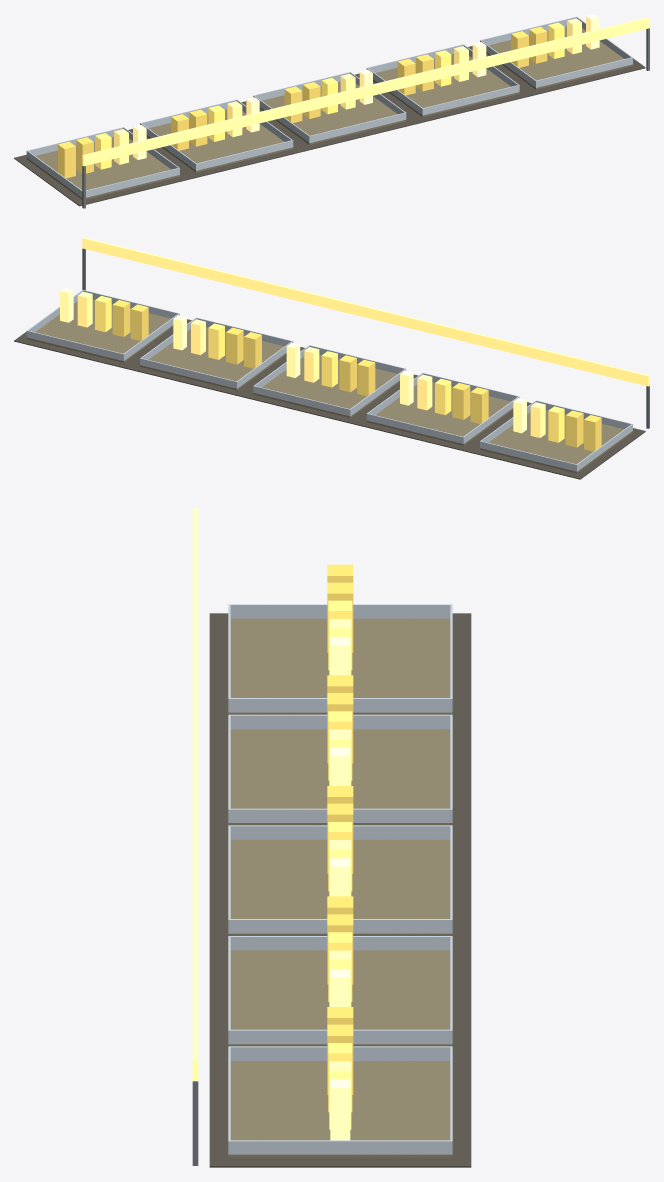
File: pack-housing-tenancy.glb
3 views of the same model, one above another, from view 1: azimuth 30°, elevation 25°; view 2: azimuth 150°, elevation 25°; view 3: azimuth 270°, elevation 25° (orthographic). The views are drawn at different scales.
Parts seen in each view (by area): view 1: Housing & Tenancy; view 2: Housing & Tenancy; view 3: Housing & Tenancy.
Boxes of the visible parts, x1,y1,x2,y2 form: Housing & Tenancy: (14, 14, 649, 208); Housing & Tenancy: (14, 237, 649, 479); Housing & Tenancy: (192, 508, 471, 1167).
Bounding box in the file's own units: 70 × 6.3 × 14.9.
